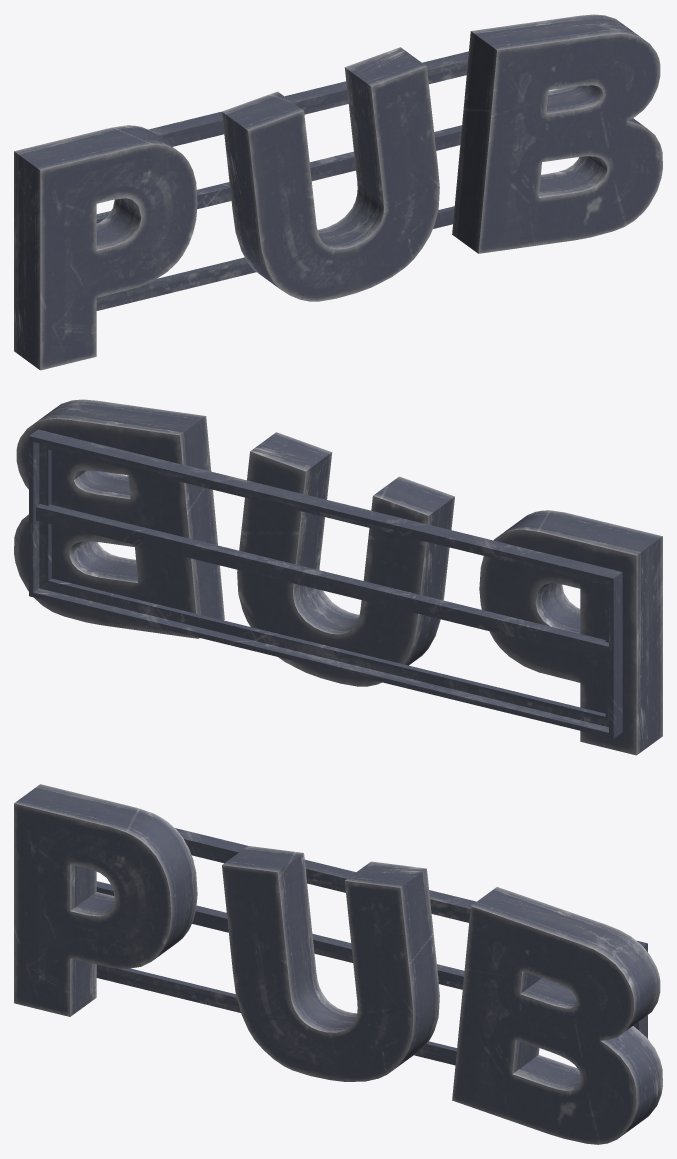
The model's file is Pub1.fbx.
3 renders of one model, top to bottom at view 1: azimuth 30°, elevation 25°; view 2: azimuth 150°, elevation 25°; view 3: azimuth 330°, elevation 25°, orthographic.
Parts seen in each view (by area): view 1: polySurface268; view 2: polySurface268; view 3: polySurface268.
Part boxes in pixels (x1,y1,x2,y2): polySurface268: (14,14,662,370); polySurface268: (14,399,662,755); polySurface268: (14,784,662,1144).
Size of the model in its own units: 272 by 87.99 by 26.8.
Materials: 1 (1 with a texture image).
